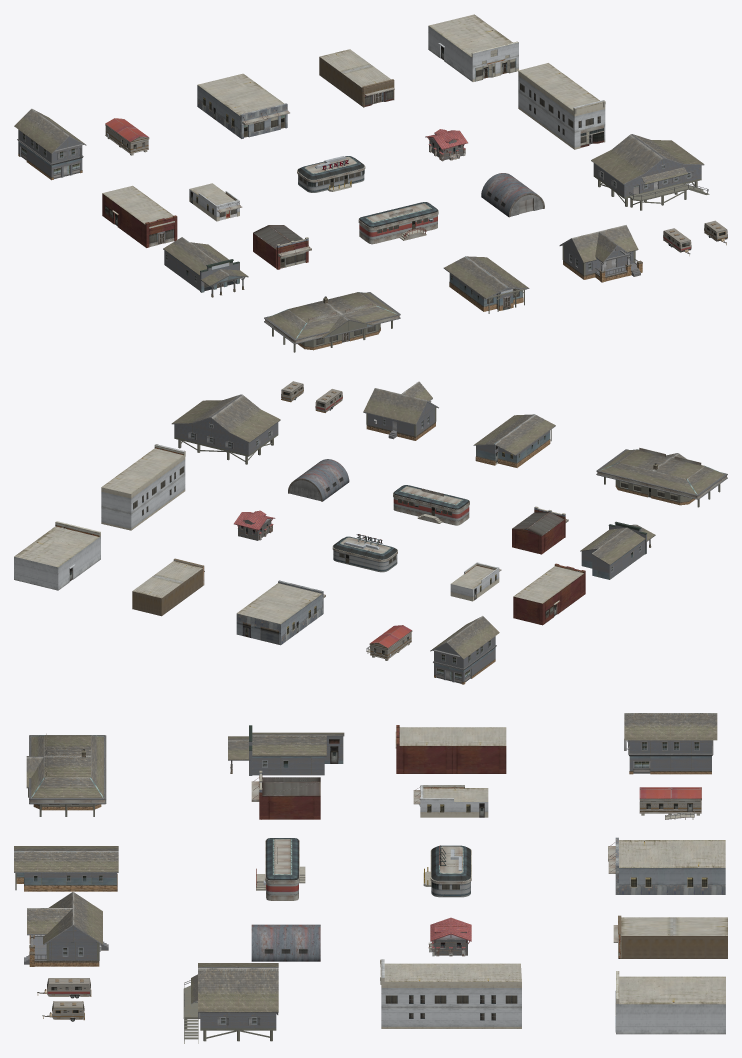
The model's file is Rural_Building_Set.fbx.
The picture shows the model from 3 angles, top to bottom: view 1: azimuth 30°, elevation 25°; view 2: azimuth 150°, elevation 25°; view 3: azimuth 270°, elevation 25°; orthographic projection. The views are drawn at different scales.
Visible parts, largest first — view 1: Rural_WoodenBuilding_1, Rural_StoreSmall_4, Rural_WoodenBuilding_4, Rural_StoreSmall_8, Rural_StoreSmall_6, Rural_WoodenBuilding_2, Rural_WoodenBuilding_5, Rural_WoodenBuilding_3, Rural_StoreSmall_5, Rural_StoreSmall_2, Rural_StoreSmall_7, Rural_Diner_1 (+6 smaller); view 2: Rural_StoreSmall_4, Rural_WoodenBuilding_4, Rural_WoodenBuilding_1, Rural_StoreSmall_8, Rural_StoreSmall_6, Rural_WoodenBuilding_2, Rural_WoodenBuilding_5, Rural_WoodenBuilding_3, Rural_StoreSmall_5, Rural_StoreSmall_2, Rural_StoreSmall_7, Rural_Diner_1 (+6 smaller); view 3: Rural_StoreSmall_4, Rural_WoodenBuilding_1, Rural_StoreSmall_8, Rural_StoreSmall_6, Rural_WoodenBuilding_4, Rural_WoodenBuilding_5, Rural_StoreSmall_5, Rural_WoodenBuilding_2, Rural_WoodenBuilding_3, Rural_StoreSmall_7, Rural_StoreSmall_2, Rural_StoreSmall_1 (+8 smaller).
Part boxes in pixels (x1=…): Rural_WoodenBuilding_1: x1=591, y1=134, x2=709, y2=210; Rural_StoreSmall_4: x1=518, y1=63, x2=605, y2=149; Rural_WoodenBuilding_4: x1=264, y1=292, x2=400, y2=352; Rural_StoreSmall_8: x1=428, y1=14, x2=518, y2=81; Rural_StoreSmall_6: x1=197, y1=73, x2=289, y2=138; Rural_WoodenBuilding_2: x1=559, y1=225, x2=642, y2=282; Rural_WoodenBuilding_5: x1=14, y1=108, x2=86, y2=180; Rural_WoodenBuilding_3: x1=443, y1=256, x2=529, y2=313; Rural_StoreSmall_5: x1=102, y1=185, x2=177, y2=247; Rural_StoreSmall_2: x1=163, y1=237, x2=248, y2=297; Rural_StoreSmall_7: x1=319, y1=49, x2=394, y2=107; Rural_Diner_1: x1=358, y1=202, x2=438, y2=244; Rural_StoreSmall_4: x1=101, y1=444, x2=185, y2=530; Rural_WoodenBuilding_4: x1=596, y1=447, x2=727, y2=507; Rural_WoodenBuilding_1: x1=171, y1=394, x2=280, y2=464; Rural_StoreSmall_8: x1=14, y1=521, x2=100, y2=590; Rural_StoreSmall_6: x1=236, y1=580, x2=325, y2=645; Rural_WoodenBuilding_2: x1=363, y1=381, x2=438, y2=440; Rural_WoodenBuilding_5: x1=430, y1=616, x2=499, y2=684; Rural_WoodenBuilding_3: x1=473, y1=414, x2=555, y2=467; Rural_StoreSmall_5: x1=513, y1=563, x2=585, y2=625; Rural_StoreSmall_2: x1=580, y1=521, x2=655, y2=579; Rural_StoreSmall_7: x1=132, y1=558, x2=204, y2=616; Rural_Diner_1: x1=393, y1=485, x2=469, y2=525; Rural_StoreSmall_4: x1=380, y1=959, x2=521, y2=1028; Rural_WoodenBuilding_1: x1=183, y1=963, x2=278, y2=1043; Rural_StoreSmall_8: x1=615, y1=971, x2=725, y2=1034; Rural_StoreSmall_6: x1=608, y1=837, x2=725, y2=894; Rural_WoodenBuilding_4: x1=26, y1=733, x2=106, y2=816; Rural_WoodenBuilding_5: x1=624, y1=713, x2=717, y2=774; Rural_StoreSmall_5: x1=395, y1=725, x2=506, y2=773; Rural_WoodenBuilding_2: x1=24, y1=892, x2=108, y2=966; Rural_WoodenBuilding_3: x1=14, y1=846, x2=118, y2=891; Rural_StoreSmall_7: x1=613, y1=915, x2=727, y2=958; Rural_StoreSmall_2: x1=228, y1=725, x2=344, y2=775; Rural_StoreSmall_1: x1=251, y1=770, x2=320, y2=819.
Bounding box in the file's own units: 126 × 10.73 × 130.
